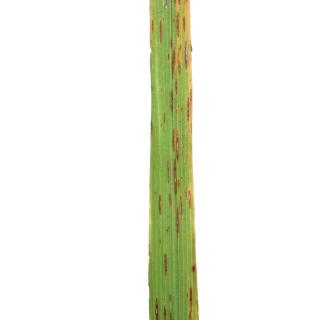Bercak-Cokelat-Sempit: (170, 128, 184, 240), (151, 296, 179, 320), (183, 282, 196, 320), (174, 13, 192, 38), (183, 88, 194, 128), (171, 50, 183, 78), (163, 250, 173, 278), (187, 188, 197, 215), (166, 87, 173, 120), (154, 197, 164, 219), (149, 18, 158, 38), (187, 264, 197, 278), (169, 34, 176, 49), (160, 19, 163, 47)
